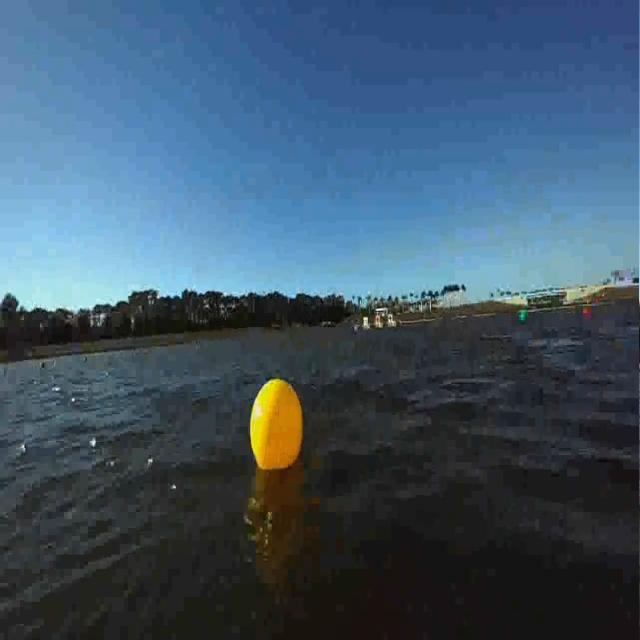yellow-buoy: (250, 378, 305, 472)
